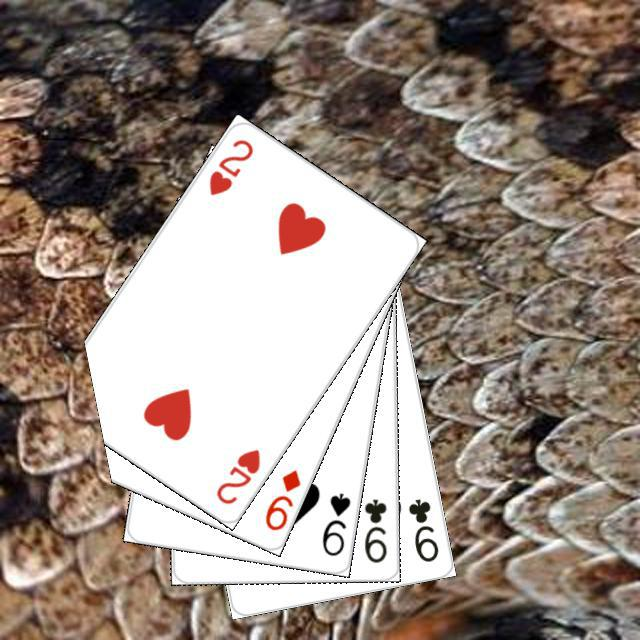2h: (203, 134, 256, 198), (211, 444, 262, 506)
9c: (403, 494, 441, 564), (359, 494, 389, 564)
9d: (260, 464, 303, 533)
9s: (317, 488, 352, 558)
